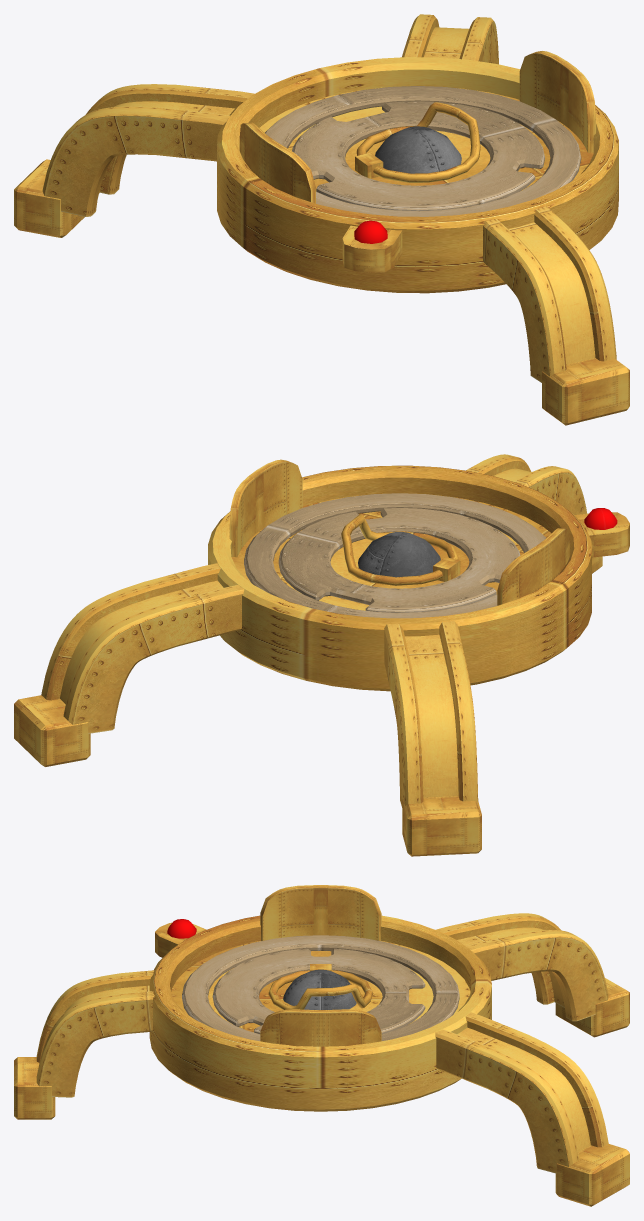
Rendered from static.glb.
The picture shows the model from 3 angles, top to bottom: view 1: azimuth 30°, elevation 25°; view 2: azimuth 150°, elevation 25°; view 3: azimuth 270°, elevation 25°; orthographic projection. The views are drawn at different scales.
Visible parts, largest first — view 1: Tube, Boole_2, Sweep_2, Sweep_3, Sweep_6, Cube_5, Cube_3, Sweep_1_3, Cylinder_2, Sphere, Cube_2, Sweep_5 (+5 smaller); view 2: Tube, Sweep, Boole_2, Sweep_6, Sweep_2, Cube_5, Sweep_1_2, Cube_2, Cube, Cylinder_2, Sphere, Sweep_3 (+4 smaller); view 3: Tube, Sweep, Cube_5, Sweep_2, Boole_2, Sweep_3, Sweep_6, Cube, Cylinder_2, Sweep_1, Cube_3, Cube_2 (+6 smaller).
Part boxes in pixels (x1=…): Tube: x1=217, y1=57, x2=618, y2=293; Boole_2: x1=292, y1=101, x2=544, y2=210; Sweep_2: x1=42, y1=84, x2=254, y2=216; Sweep_3: x1=483, y1=206, x2=616, y2=382; Sweep_6: x1=265, y1=86, x2=581, y2=216; Cube_5: x1=239, y1=51, x2=595, y2=203; Cube_3: x1=542, y1=358, x2=629, y2=425; Sweep_1_3: x1=508, y1=222, x2=595, y2=364; Cylinder_2: x1=259, y1=87, x2=593, y2=191; Sphere: x1=375, y1=126, x2=461, y2=173; Cube_2: x1=14, y1=159, x2=84, y2=237; Sweep_5: x1=356, y1=102, x2=480, y2=182; Tube: x1=208, y1=465, x2=591, y2=691; Sweep: x1=41, y1=563, x2=244, y2=733; Boole_2: x1=278, y1=508, x2=520, y2=612; Sweep_6: x1=244, y1=493, x2=545, y2=618; Sweep_2: x1=384, y1=621, x2=478, y2=807; Cube_5: x1=229, y1=459, x2=570, y2=605; Sweep_1_2: x1=405, y1=634, x2=458, y2=797; Cube_2: x1=402, y1=796, x2=481, y2=856; Cube: x1=14, y1=695, x2=90, y2=766; Cylinder_2: x1=231, y1=493, x2=551, y2=610; Sphere: x1=358, y1=532, x2=440, y2=577; Sweep_3: x1=466, y1=454, x2=586, y2=514; Tube: x1=149, y1=915, x2=491, y2=1111; Sweep: x1=435, y1=1012, x2=608, y2=1173; Cube_5: x1=260, y1=885, x2=381, y2=1046; Sweep_2: x1=435, y1=913, x2=608, y2=1021; Boole_2: x1=212, y1=948, x2=425, y2=1033; Sweep_3: x1=36, y1=970, x2=154, y2=1097; Sweep_6: x1=182, y1=935, x2=459, y2=1041; Cube: x1=555, y1=1143, x2=629, y2=1206; Cylinder_2: x1=171, y1=941, x2=470, y2=1032; Sweep_1: x1=457, y1=1027, x2=590, y2=1152; Cube_3: x1=14, y1=1057, x2=55, y2=1119; Cube_2: x1=555, y1=978, x2=629, y2=1037.
Size of the model in its own units: 1.67 by 0.6084 by 2.15.
Materials: 4 (4 with a texture image).
